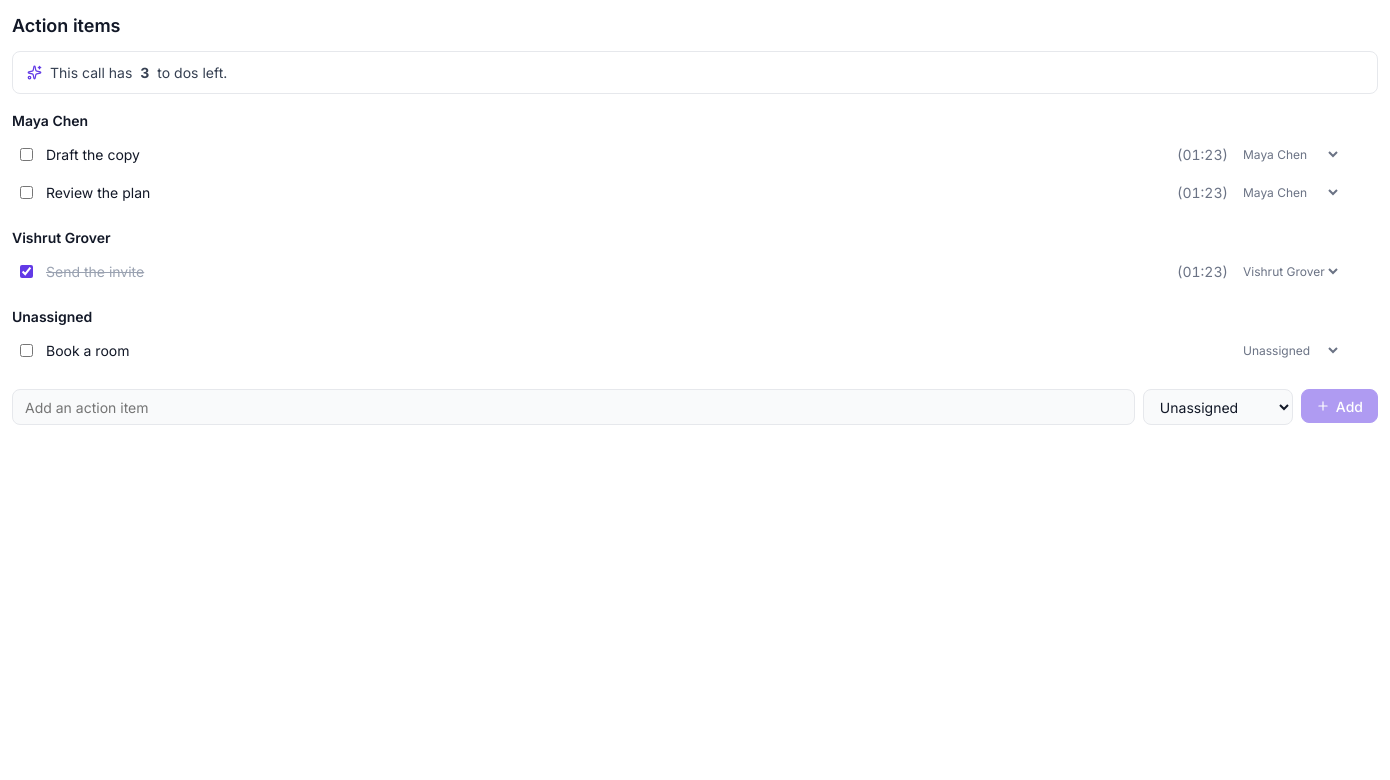
Test: ActionItems › a failed tick is put back and the error is shown
The image size is (1390, 780).
Click the checkbox named "Mark \"Draft the copy\" done" at coordinates (26, 154), box x1=20 y1=148 x2=33 y2=160
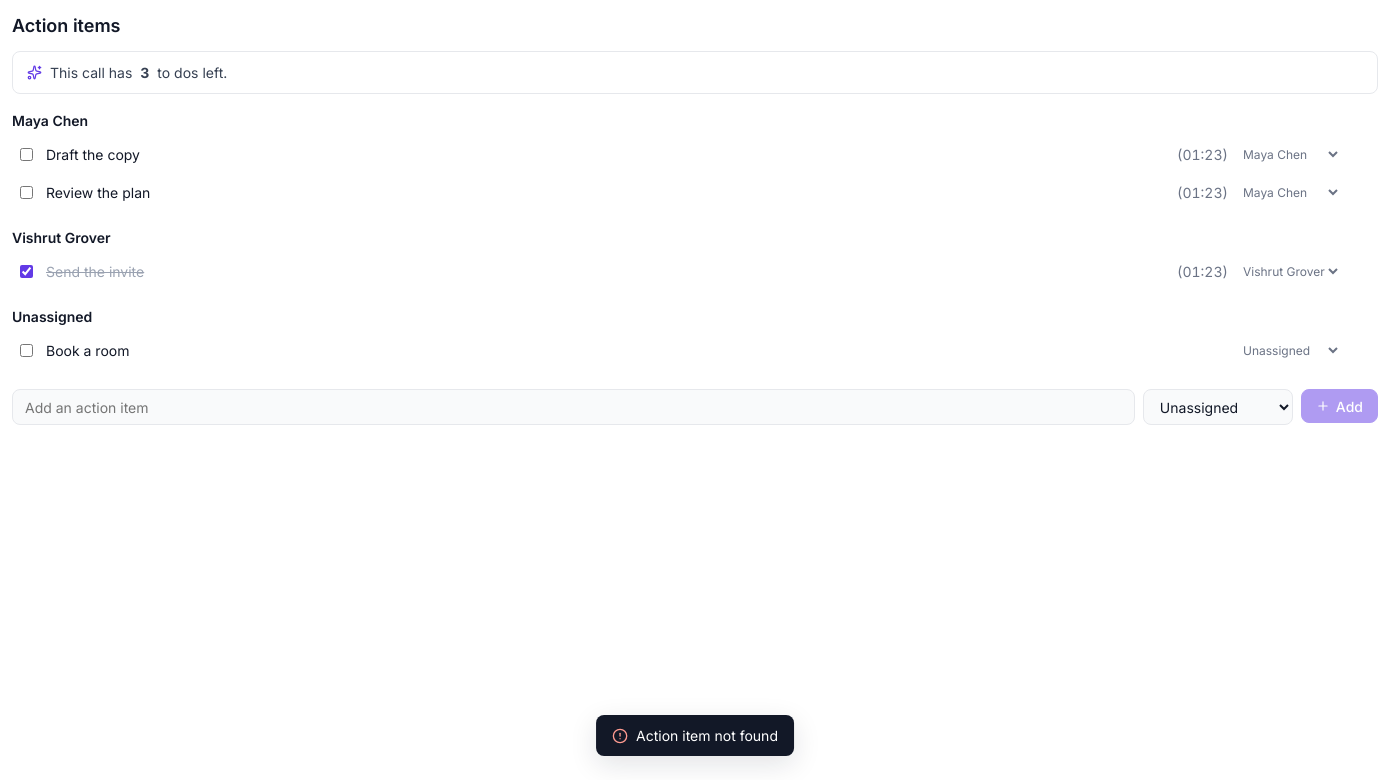
Expected: the text "Action item not found" is shown, x1=596 y1=715 x2=794 y2=756
